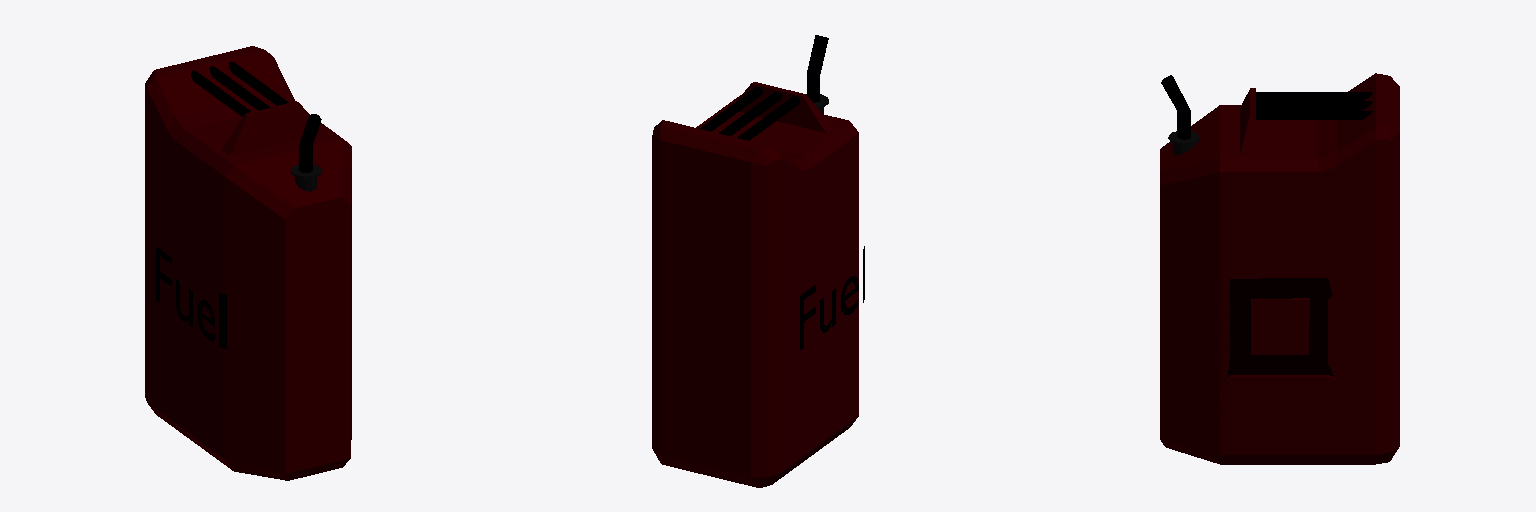
Rendered from GASCAN.obj.
The picture shows the model from 3 angles: view 1: azimuth 30°, elevation 25°; view 2: azimuth 150°, elevation 25°; view 3: azimuth 270°, elevation 25°; orthographic projection.
Parts seen in each view (by area): view 1: Cube.001, Cube.002, feuel; view 2: Cube.001, Cube.002, feuel; view 3: Cube.001, Cube.002.
Boxes of the visible parts, <box> form: Cube.001: <box>145,46,351,480</box>; Cube.002: <box>191,61,325,191</box>; feuel: <box>156,247,226,348</box>; Cube.001: <box>652,95,858,487</box>; Cube.002: <box>699,35,833,140</box>; feuel: <box>800,246,864,349</box>; Cube.001: <box>1160,73,1399,464</box>; Cube.002: <box>1161,75,1372,155</box>.
Size of the model in its own units: 1.27 by 3.33 by 2.